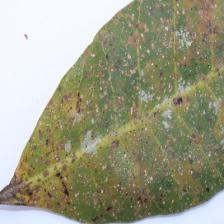red rust: (0, 0, 223, 223)
